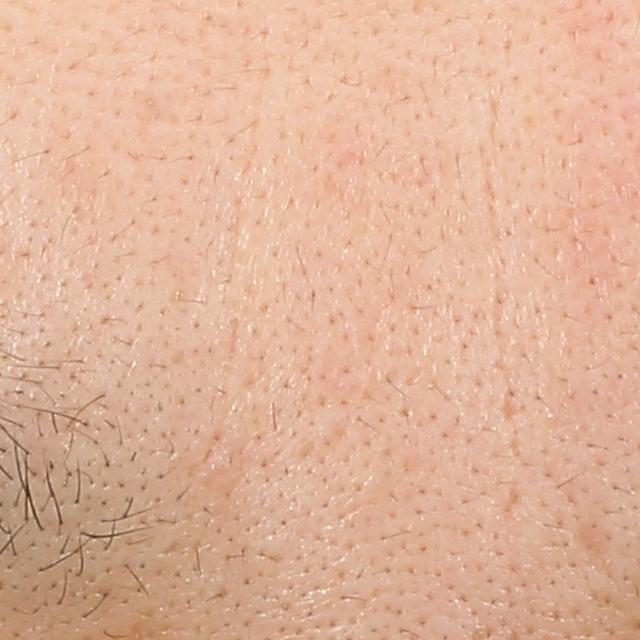atrophic_scar: (569, 507, 621, 584), (500, 486, 528, 522), (499, 389, 515, 423)
